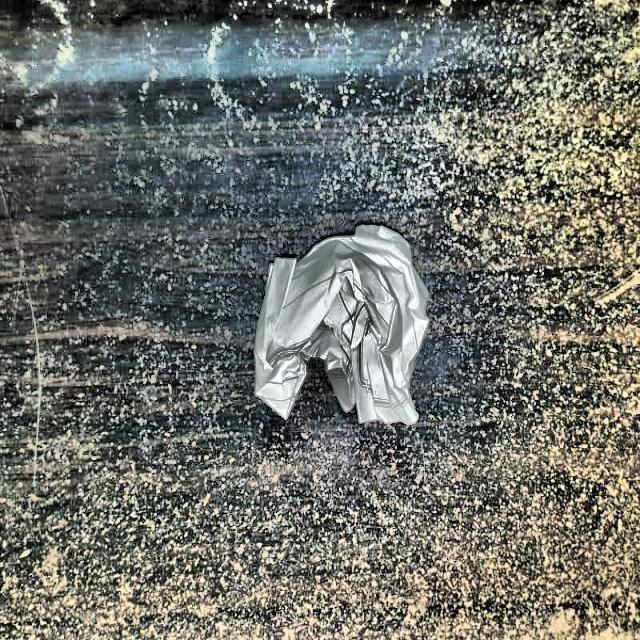paper: (253, 216, 434, 444)
